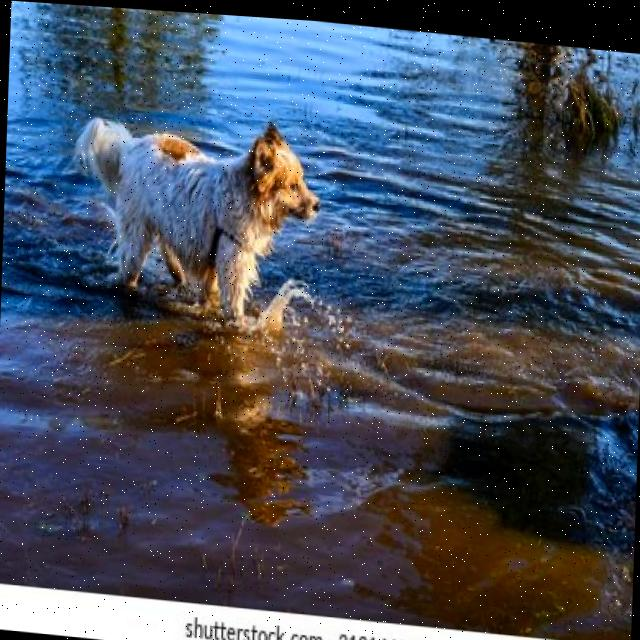dog: (54, 96, 328, 340)
